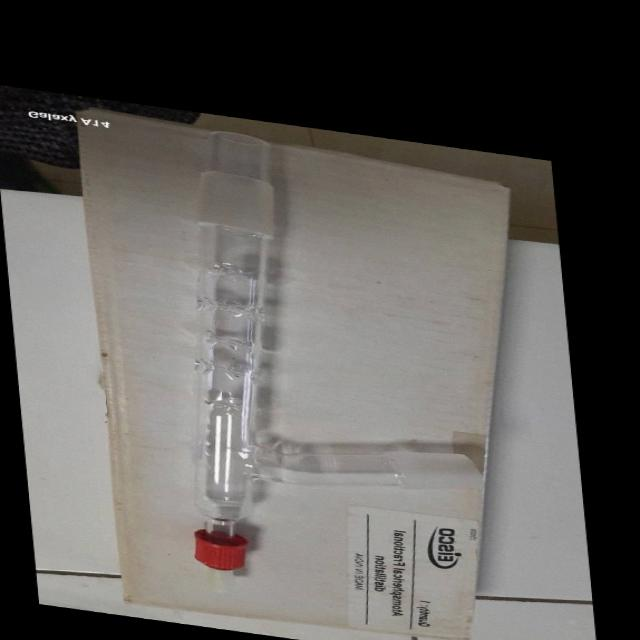Atmospherical Fractional Distillation: (130, 115, 500, 627)
